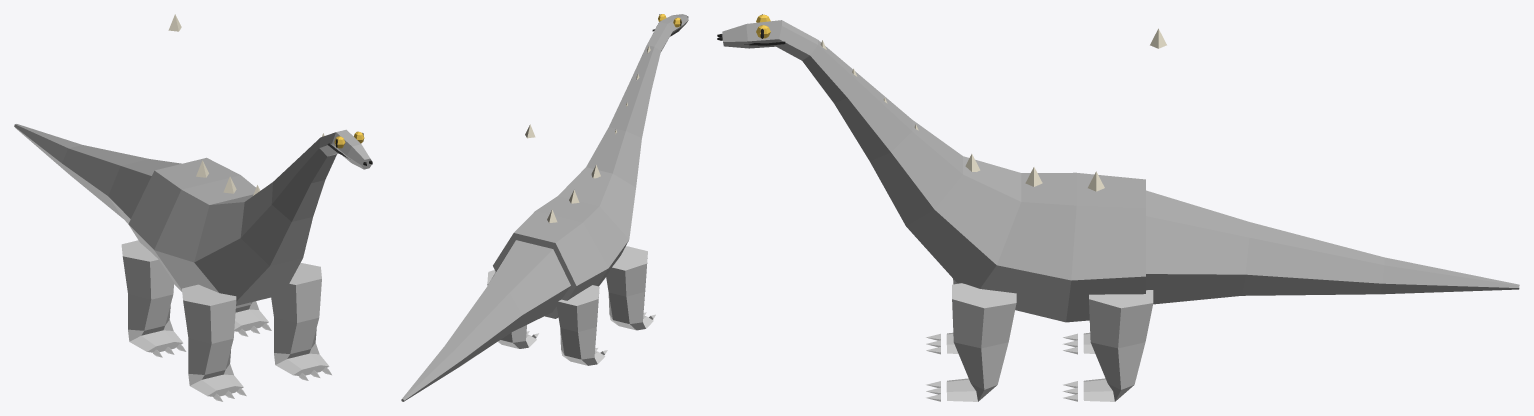
The model's file is longneck.fbx.
3 views of the same model, side by side, from view 1: azimuth 30°, elevation 25°; view 2: azimuth 150°, elevation 25°; view 3: azimuth 270°, elevation 25° (orthographic). The views are drawn at different scales.
Parts seen in each view (by area): view 1: longneck_Body, longneck_Tail, longneck_LegFR, longneck_LegFL, longneck_LegBR, longneck_LegBL, longneck_Accent; view 2: longneck_Body, longneck_Tail, longneck_LegFR, longneck_LegBR, longneck_LegBL, longneck_Accent; view 3: longneck_Body, longneck_Tail, longneck_LegFL, longneck_LegBL, longneck_Accent.
Boxes of the visible parts, box(x1,y1,x2,y2) form: longneck_Body: box(128, 129, 372, 305); longneck_Tail: box(14, 124, 181, 223); longneck_LegFR: box(182, 284, 246, 401); longneck_LegFL: box(271, 263, 331, 380); longneck_LegBR: box(121, 240, 186, 357); longneck_LegBL: box(234, 301, 271, 336); longneck_Accent: box(168, 14, 324, 195); longneck_Body: box(493, 14, 688, 318); longneck_Tail: box(401, 240, 570, 401); longneck_LegFR: box(606, 246, 655, 330); longneck_LegBR: box(556, 285, 607, 365); longneck_LegBL: box(487, 270, 538, 348); longneck_Accent: box(525, 46, 650, 223); longneck_Body: box(722, 20, 1145, 322); longneck_Tail: box(1146, 190, 1519, 304); longneck_LegFL: box(926, 283, 1016, 401); longneck_LegBL: box(1063, 290, 1153, 401); longneck_Accent: box(820, 28, 1166, 191).
Bounding box in the file's own units: 2.9 × 6.24 × 12.89.
